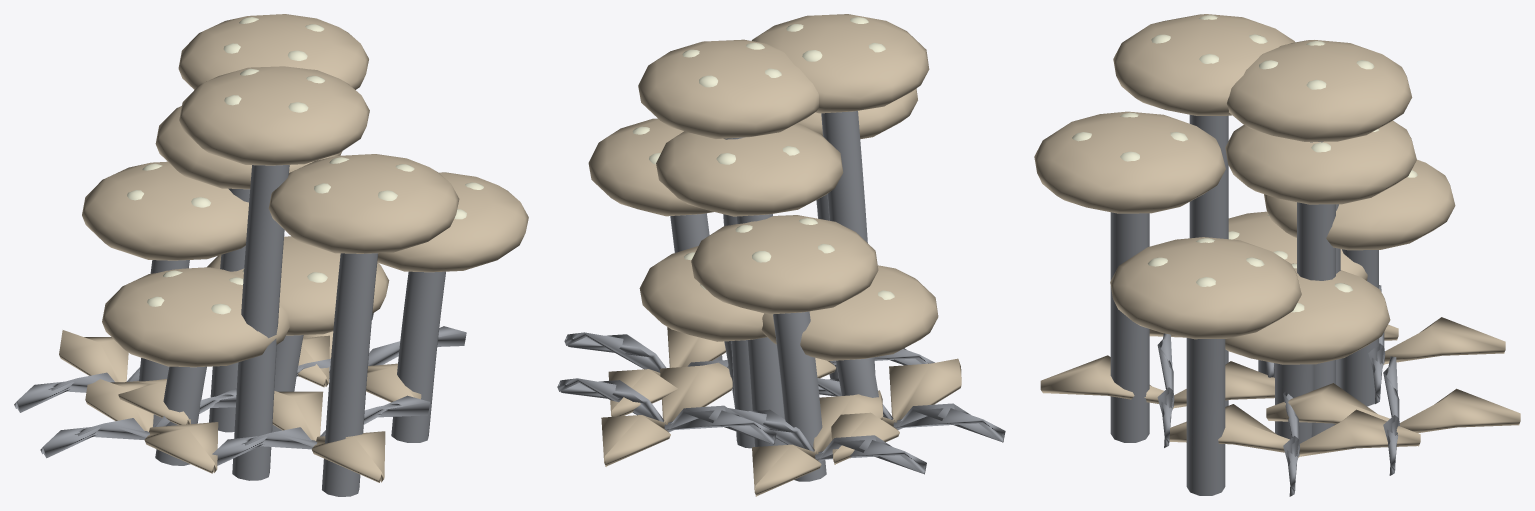
The model's file is bio_spore_fungus_15_far.glb.
3 views of the same model, side by side, from view 1: azimuth 30°, elevation 25°; view 2: azimuth 150°, elevation 25°; view 3: azimuth 270°, elevation 25° (orthographic). The views are drawn at different scales.
Visible parts, largest first — view 1: Thick umbrella cap.007, Thick umbrella cap.002, Thick umbrella cap.004, Thick umbrella cap.001, Curved stipe.007, Thick umbrella cap.003, Curved stipe.002, Thick umbrella cap.005, Curved stipe.005, Thick umbrella cap, Low buttress leaf.017, Low buttress leaf.009 (+12 smaller); view 2: Thick umbrella cap.001, Thick umbrella cap.003, Thick umbrella cap.006, Thick umbrella cap.007, Thick umbrella cap.004, Thick umbrella cap, Thick umbrella cap.005, Low buttress leaf.013, Low buttress leaf.017, Curved stipe.001, Low buttress leaf.005, Curved stipe.007 (+14 smaller); view 3: Thick umbrella cap.002, Thick umbrella cap.005, Thick umbrella cap.003, Thick umbrella cap.007, Thick umbrella cap.006, Thick umbrella cap, Thick umbrella cap.001, Curved stipe.002, Curved stipe.005, Low buttress leaf.013, Low buttress leaf.001, Low buttress leaf.009 (+10 smaller).
Boxes of the visible parts, left/top/right/bottom form: Thick umbrella cap.007: left=179, top=66, right=369, bottom=165; Thick umbrella cap.002: left=268, top=154, right=459, bottom=253; Thick umbrella cap.004: left=102, top=267, right=289, bottom=367; Thick umbrella cap.001: left=82, top=161, right=248, bottom=260; Curved stipe.007: left=232, top=165, right=289, bottom=480; Thick umbrella cap.003: left=178, top=14, right=368, bottom=89; Curved stipe.002: left=322, top=253, right=377, bottom=496; Thick umbrella cap.005: left=377, top=172, right=528, bottom=272; Curved stipe.005: left=391, top=271, right=445, bottom=442; Thick umbrella cap: left=207, top=236, right=389, bottom=335; Low buttress leaf.017: left=85, top=375, right=218, bottom=473; Low buttress leaf.009: left=272, top=391, right=385, bottom=482; Thick umbrella cap.001: left=691, top=215, right=878, bottom=314; Thick umbrella cap.003: left=638, top=39, right=818, bottom=138; Thick umbrella cap.006: left=656, top=123, right=843, bottom=216; Thick umbrella cap.007: left=751, top=14, right=929, bottom=113; Thick umbrella cap.004: left=761, top=265, right=938, bottom=360; Thick umbrella cap: left=639, top=246, right=767, bottom=341; Thick umbrella cap.005: left=588, top=118, right=713, bottom=216; Low buttress leaf.013: left=601, top=362, right=732, bottom=466; Low buttress leaf.017: left=831, top=358, right=961, bottom=464; Curved stipe.001: left=773, top=311, right=826, bottom=481; Low buttress leaf.005: left=752, top=390, right=883, bottom=496; Curved stipe.007: left=821, top=111, right=875, bottom=376; Thick umbrella cap.002: left=1034, top=111, right=1225, bottom=213; Thick umbrella cap.005: left=1110, top=237, right=1301, bottom=339; Thick umbrella cap.003: left=1227, top=40, right=1412, bottom=141; Thick umbrella cap.007: left=1113, top=14, right=1294, bottom=115; Thick umbrella cap.006: left=1225, top=121, right=1416, bottom=204; Thick umbrella cap: left=1225, top=263, right=1390, bottom=364; Thick umbrella cap.001: left=1264, top=159, right=1455, bottom=250; Curved stipe.002: left=1110, top=212, right=1149, bottom=442; Curved stipe.005: left=1186, top=338, right=1225, bottom=495; Low buttress leaf.013: left=1266, top=383, right=1520, bottom=433; Low buttress leaf.001: left=1169, top=404, right=1420, bottom=457; Low buttress leaf.009: left=1040, top=355, right=1274, bottom=408.
Size of the model in its own units: 2.25 by 1.87 by 2.12.
